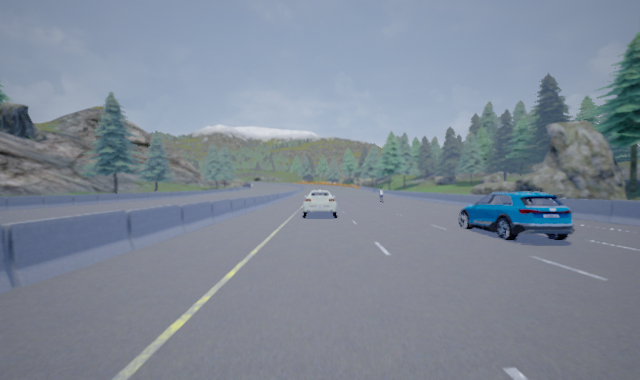bike: (379, 187, 386, 202)
vehicle: (458, 190, 573, 240), (301, 189, 338, 218)
